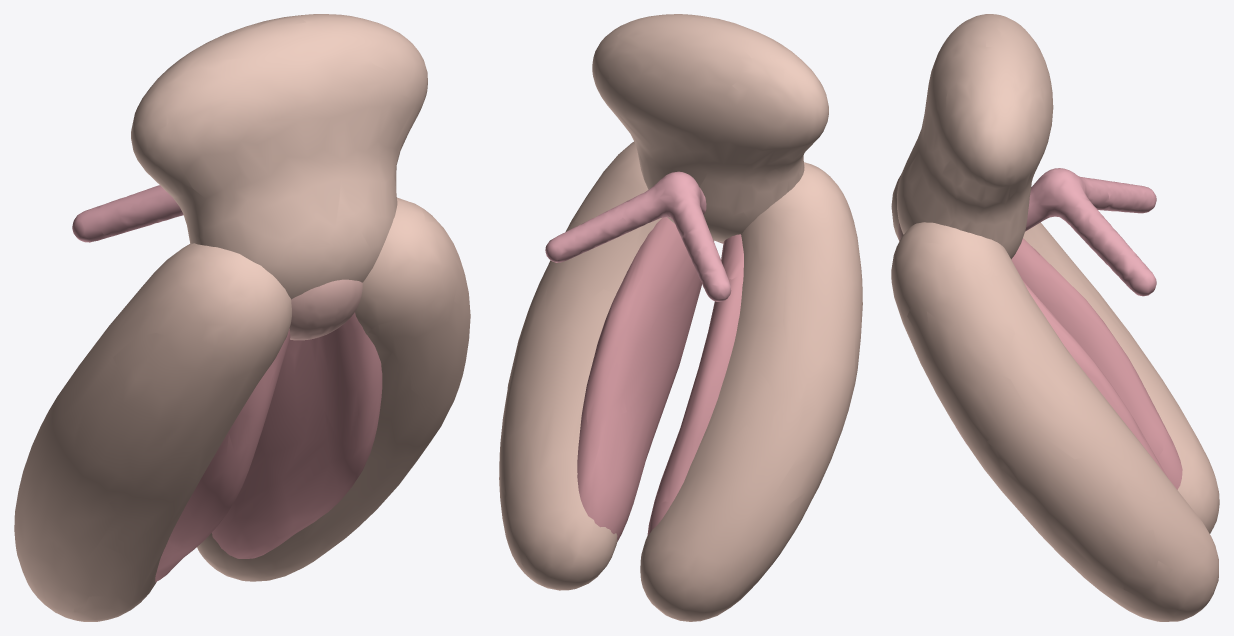
Rendered from anatomyverse-vulva.glb.
3 views of the same model, side by side, from view 1: azimuth 30°, elevation 25°; view 2: azimuth 150°, elevation 25°; view 3: azimuth 270°, elevation 25° (orthographic). The views are drawn at different scales.
Visible parts, largest first — view 1: vulva_labia_majora, vulva_mons, vulva_labia_minora, vulva_clitoris, vulva_clitoral_hood; view 2: vulva_labia_majora, vulva_mons, vulva_labia_minora, vulva_clitoris; view 3: vulva_labia_majora, vulva_mons, vulva_labia_minora, vulva_clitoris.
Part boxes in pixels (box(x1,y1,x2,y2)): vulva_labia_majora: box(14, 197, 470, 621); vulva_mons: box(131, 14, 427, 299); vulva_labia_minora: box(155, 312, 382, 582); vulva_clitoris: box(72, 185, 183, 242); vulva_clitoral_hood: box(289, 279, 362, 340); vulva_labia_majora: box(499, 141, 862, 621); vulva_mons: box(592, 14, 828, 242); vulva_labia_minora: box(577, 217, 743, 541); vulva_clitoris: box(545, 171, 731, 301); vulva_labia_majora: box(891, 174, 1219, 621); vulva_mons: box(897, 14, 1053, 259); vulva_labia_minora: box(956, 238, 1182, 489); vulva_clitoris: box(1025, 168, 1156, 296).
Bounding box in the file's own units: 0.0547 × 0.0859 × 0.0467.
